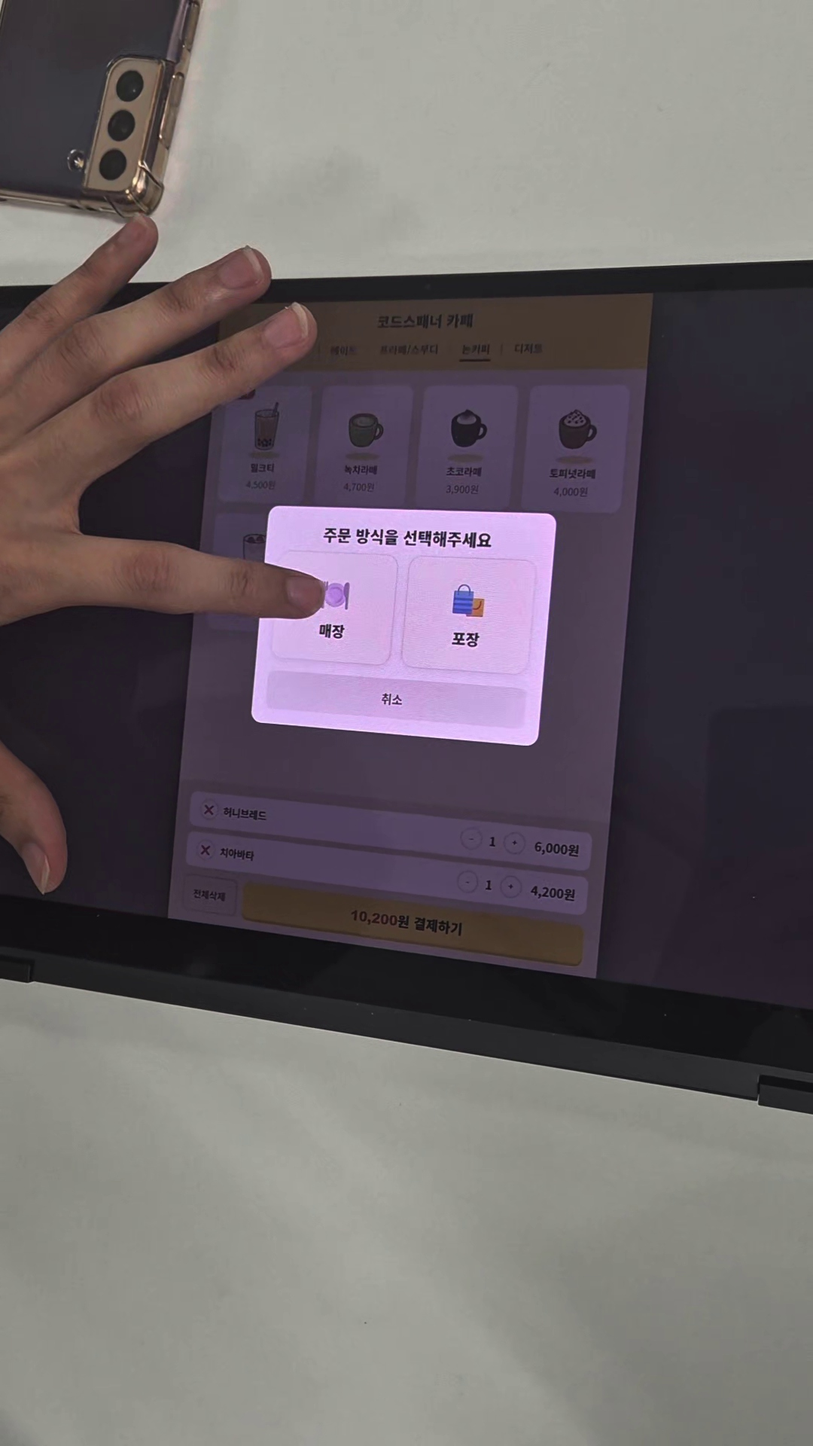action_button: (242, 881, 585, 967), (400, 556, 538, 675), (266, 669, 526, 729), (270, 549, 399, 666), (185, 876, 235, 914)
cart_item: (186, 831, 589, 915), (188, 790, 593, 872)
category_tab: (376, 342, 441, 356), (329, 343, 359, 356), (461, 343, 491, 355), (514, 341, 544, 353)
menu_back: (412, 382, 521, 509), (521, 386, 629, 513), (313, 383, 414, 506), (216, 384, 312, 505)
popup_modal: (251, 505, 557, 747)
